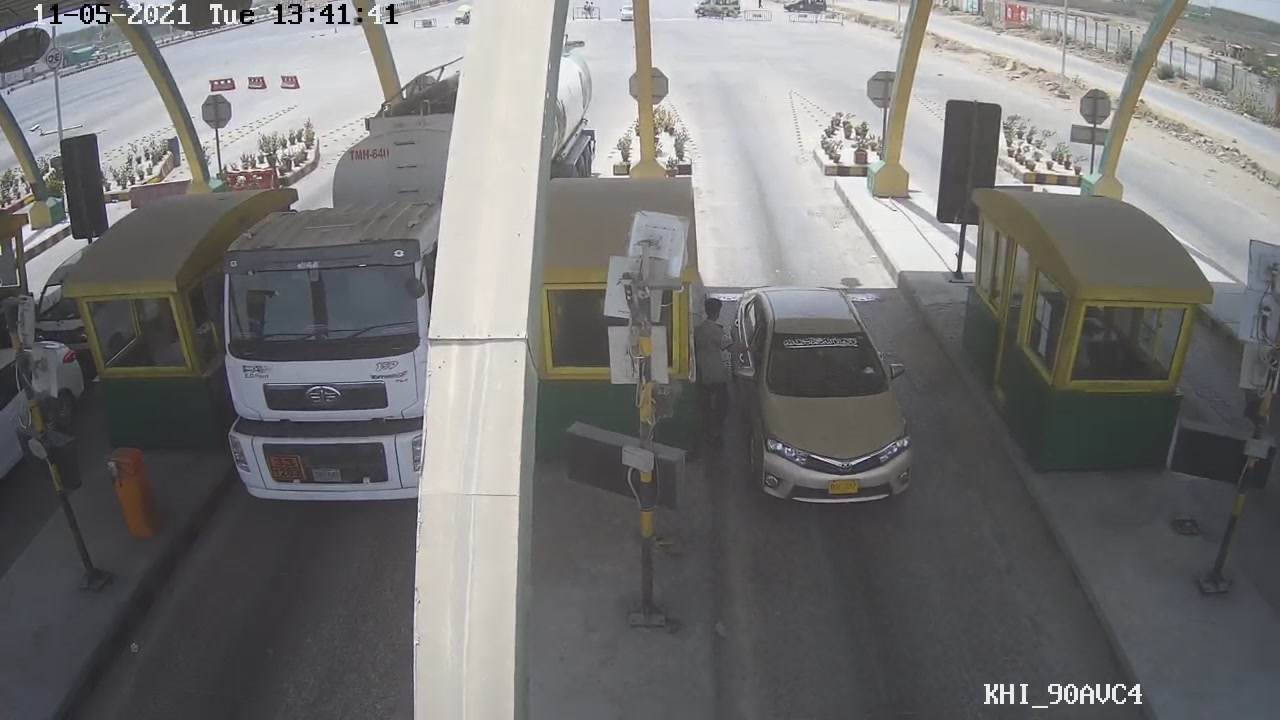F1: (730, 270, 926, 518)
